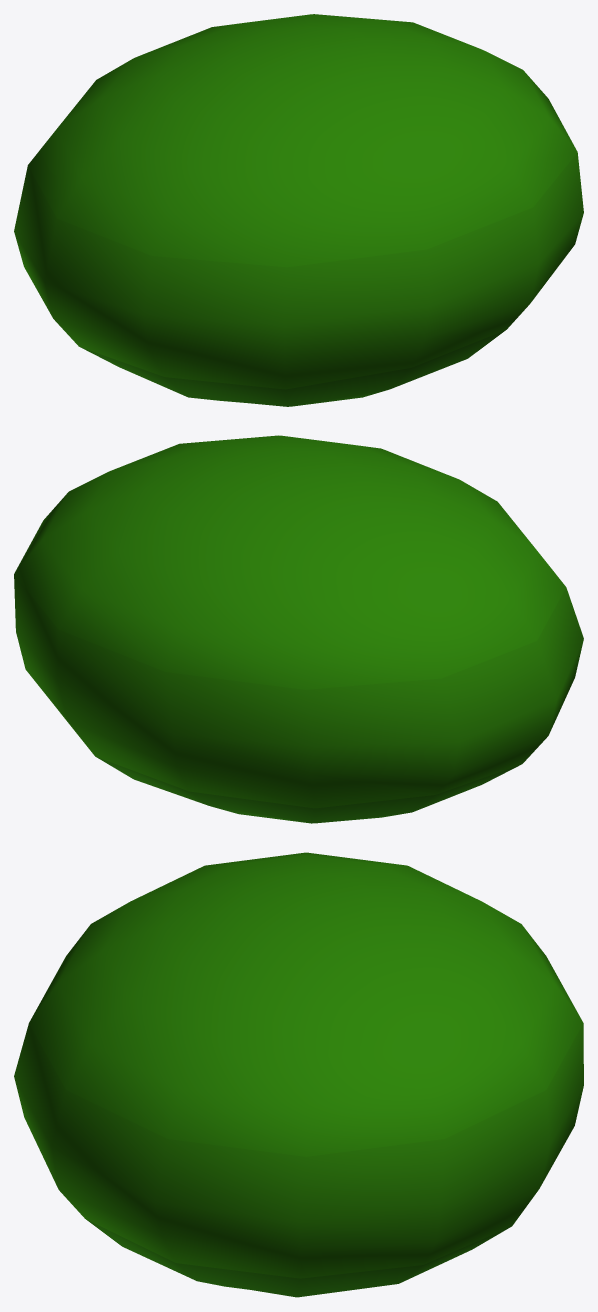
Rendered from bush-09_col.fbx.
The picture shows the model from 3 angles, top to bottom: view 1: azimuth 30°, elevation 25°; view 2: azimuth 150°, elevation 25°; view 3: azimuth 270°, elevation 25°; orthographic projection. The views are drawn at different scales.
Parts seen in each view (by area): view 1: bush-09.col; view 2: bush-09.col; view 3: bush-09.col.
Boxes of the visible parts, bbox=[...] form: bush-09.col: bbox=[14, 14, 583, 406]; bush-09.col: bbox=[14, 435, 583, 823]; bush-09.col: bbox=[14, 852, 583, 1297].
Bounding box in the file's own units: 0.2752 × 0.1619 × 0.239.
Materials: 1 (1 with a texture image).
